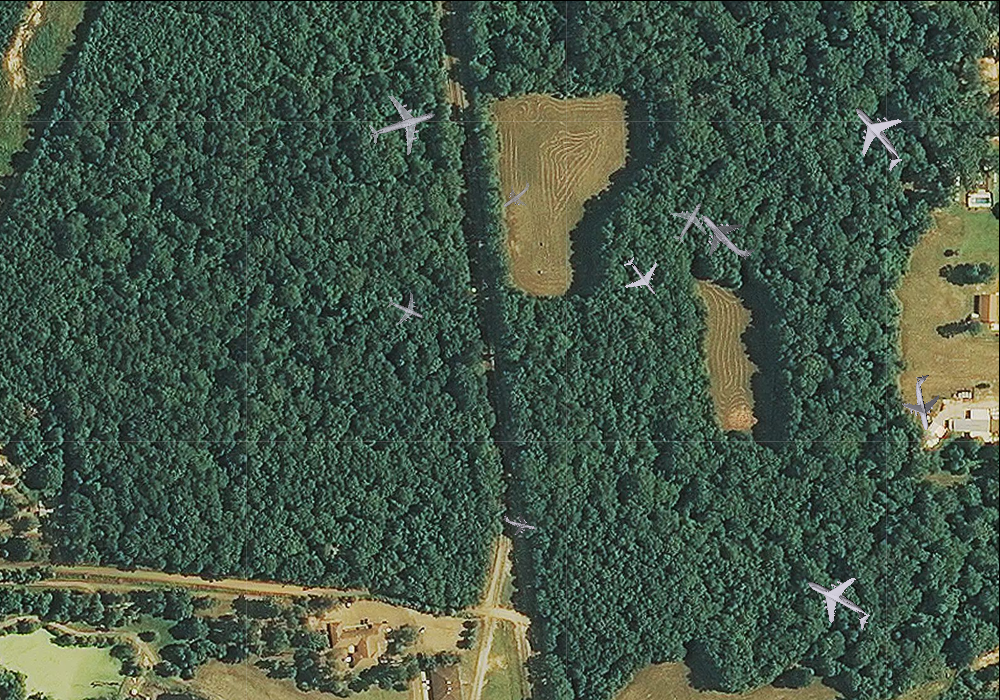plane: (830, 89, 924, 183), (792, 558, 884, 646), (684, 194, 768, 278), (360, 84, 444, 164), (895, 370, 953, 434), (659, 191, 719, 251), (612, 247, 671, 306), (381, 285, 430, 333), (492, 171, 540, 217), (499, 505, 539, 541)
